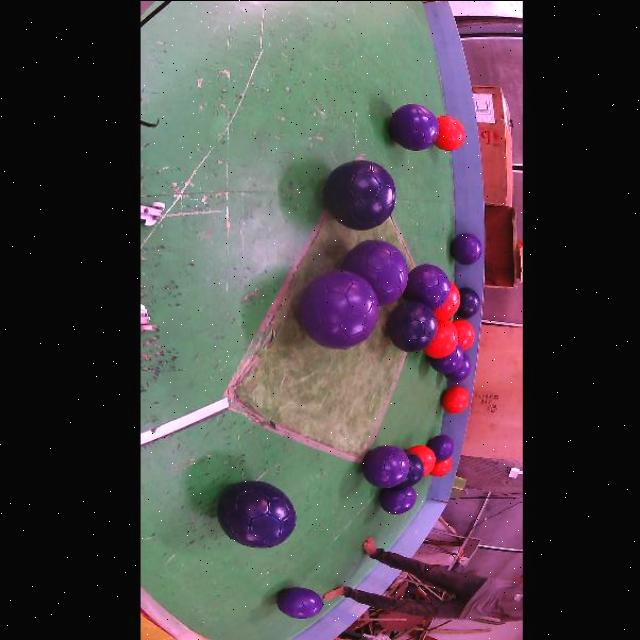B: (217, 481, 296, 547), (325, 159, 395, 229), (387, 300, 438, 352), (395, 451, 424, 489), (456, 287, 480, 317)
P: (300, 269, 379, 348), (342, 239, 409, 305), (390, 103, 439, 150), (403, 263, 451, 309), (363, 445, 410, 487), (277, 587, 322, 617), (427, 342, 464, 373), (380, 486, 416, 514), (451, 232, 482, 264), (444, 353, 471, 382), (427, 434, 454, 461)
R: (424, 320, 459, 357), (434, 115, 466, 150), (434, 281, 460, 320), (407, 445, 435, 475), (442, 385, 470, 413), (452, 318, 475, 349), (430, 457, 452, 475)
